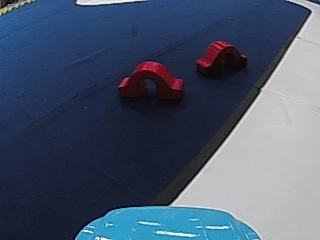bridge: (115, 58, 186, 102), (195, 37, 246, 79)
